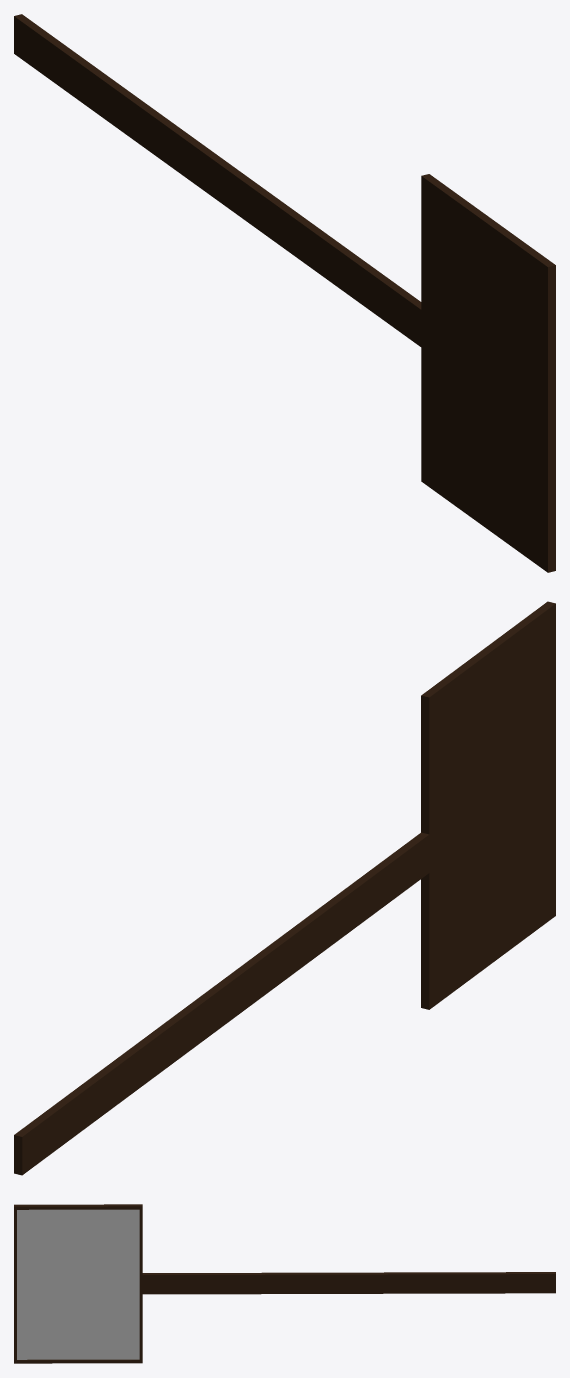
Rendered from schild.gltf.
3 views of the same model, one above another, from view 1: azimuth 30°, elevation 25°; view 2: azimuth 150°, elevation 25°; view 3: azimuth 270°, elevation 25° (orthographic). The views are drawn at different scales.
Parts seen in each view (by area): view 1: Sign; view 2: Sign; view 3: Sign.
Part boxes in pixels (left/top/right/bottom): Sign: left=14, top=14, right=555, bottom=572; Sign: left=14, top=601, right=555, bottom=1175; Sign: left=14, top=1204, right=555, bottom=1363.
Bounding box in the file's own units: 0.0204 × 0.4276 × 1.34.
